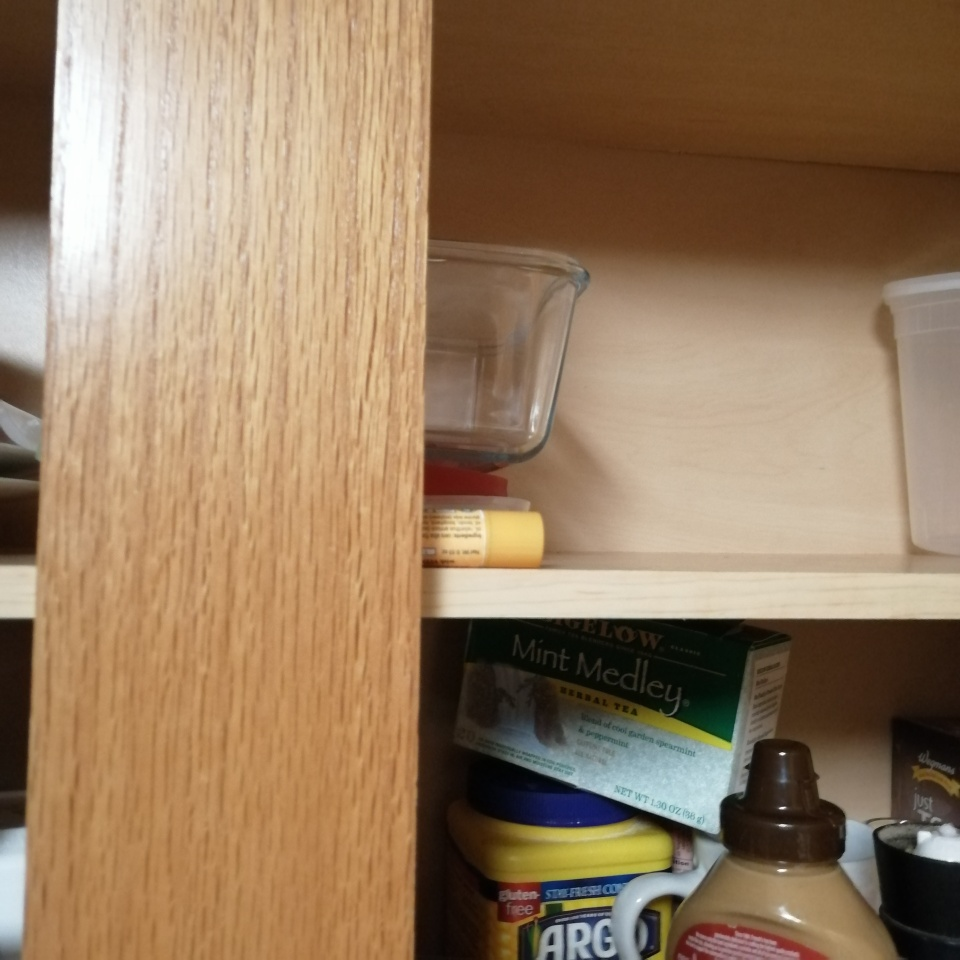chapstick: (421, 506, 546, 571)
